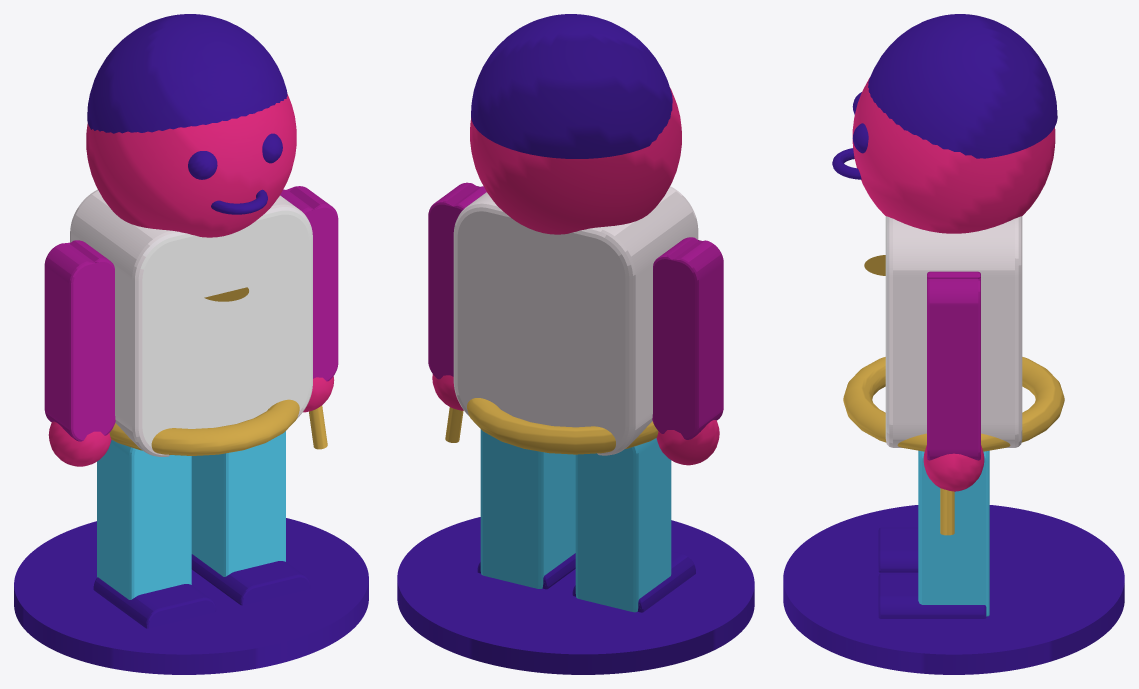
3 renders of one model, left to right at view 1: azimuth 30°, elevation 25°; view 2: azimuth 150°, elevation 25°; view 3: azimuth 270°, elevation 25°, orthographic.
Visible parts, largest first — view 1: card_0681; view 2: card_0681; view 3: card_0681.
Part boxes in pixels (left/top/right/bottom): card_0681: left=14, top=14, right=368, bottom=674; card_0681: left=397, top=14, right=754, bottom=674; card_0681: left=783, top=14, right=1124, bottom=674.
Bounding box in the file's own units: 0.5641 × 1 × 0.5376.
